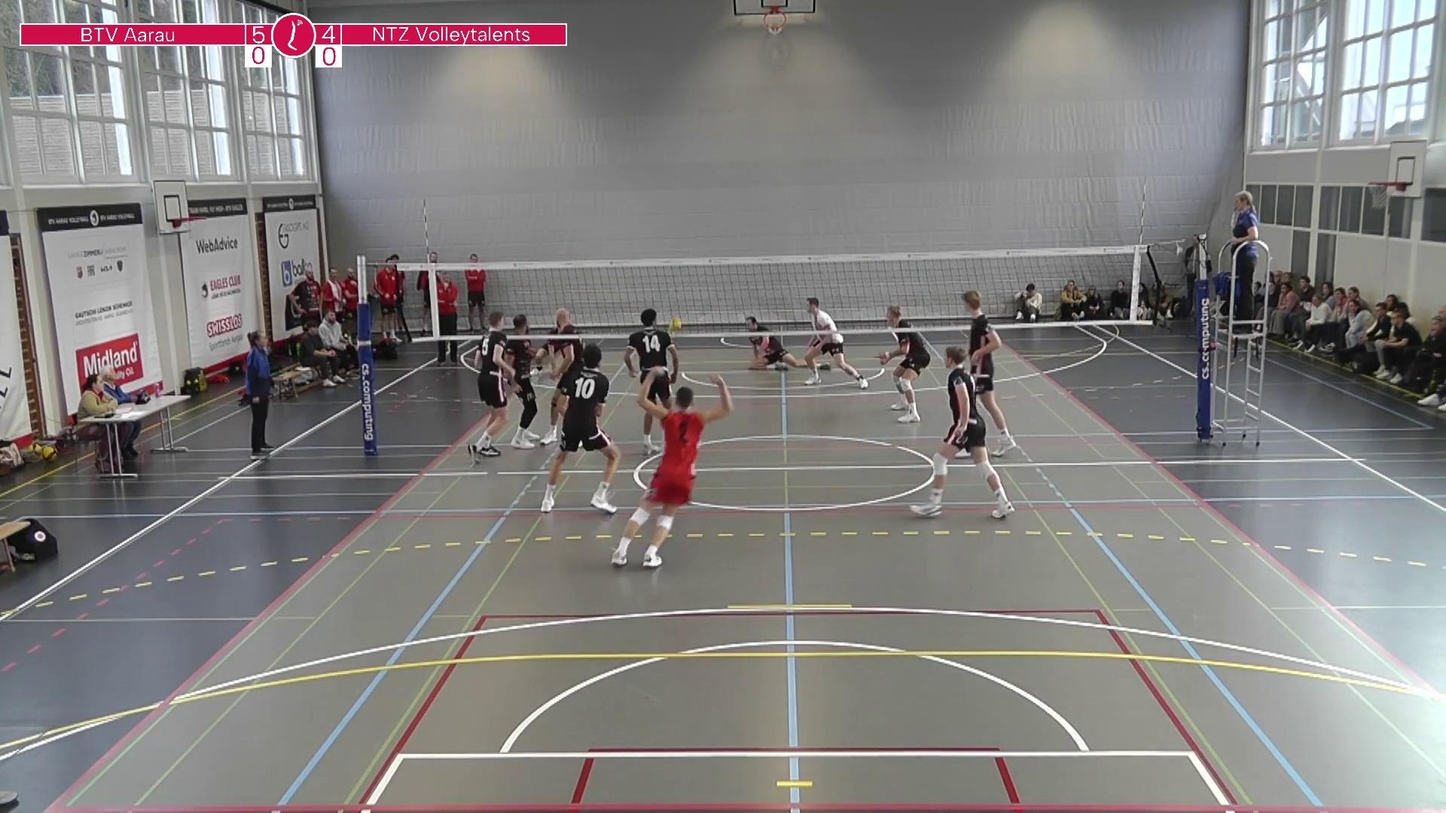Player: (606, 371, 736, 571), (911, 345, 1011, 519), (541, 344, 621, 512), (962, 290, 1014, 452), (624, 308, 675, 452), (871, 306, 933, 424), (468, 312, 514, 458), (502, 312, 551, 449), (801, 297, 864, 386), (737, 315, 803, 373), (536, 306, 578, 382)
ball: (665, 314, 683, 333)
